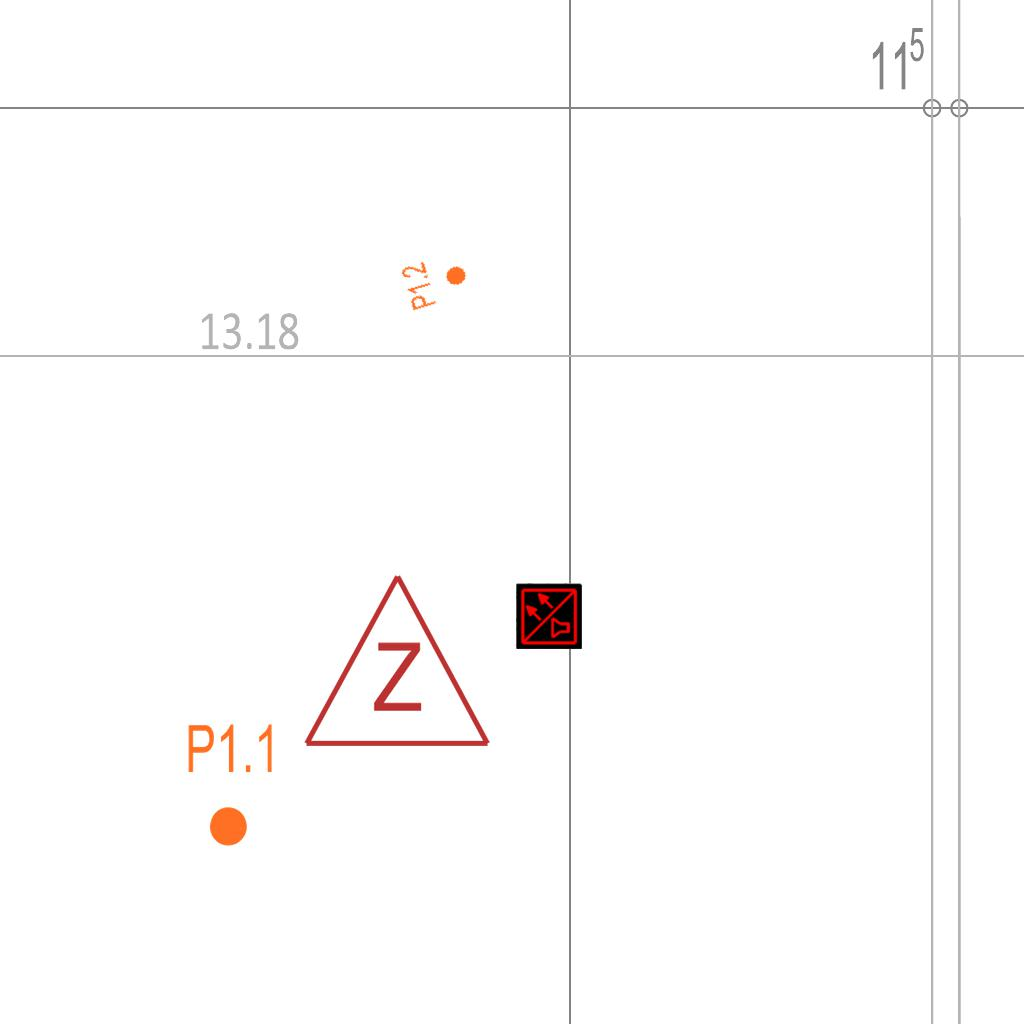Downlight_LED_Einbauleuchten_Flur: (185, 721, 278, 849), (398, 249, 474, 313)
OKW_Multisensormelder_(Kombination_optischer_Rauch-Kahlenmonoxid_Waerme-Melder): (516, 583, 582, 649)
Zimmersignalleuchte: (297, 561, 493, 761)
